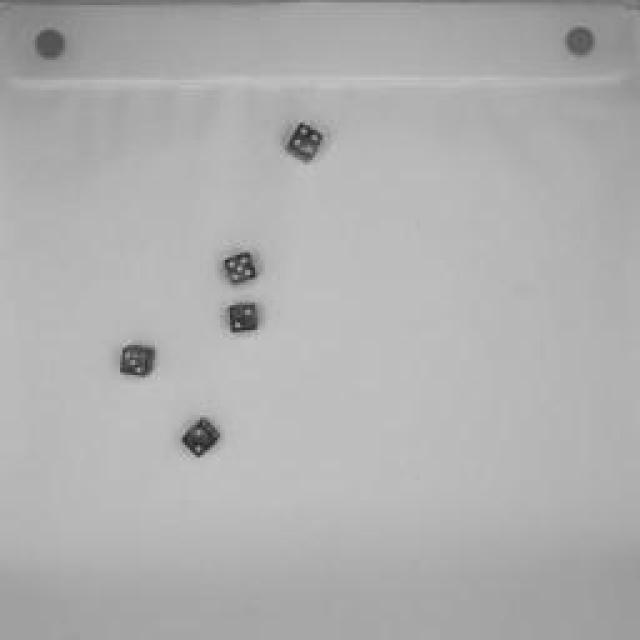dice_2: (178, 416, 228, 464), (116, 342, 159, 382), (221, 301, 264, 339)
dice_4: (285, 119, 330, 166)
dice_5: (219, 249, 261, 291)
